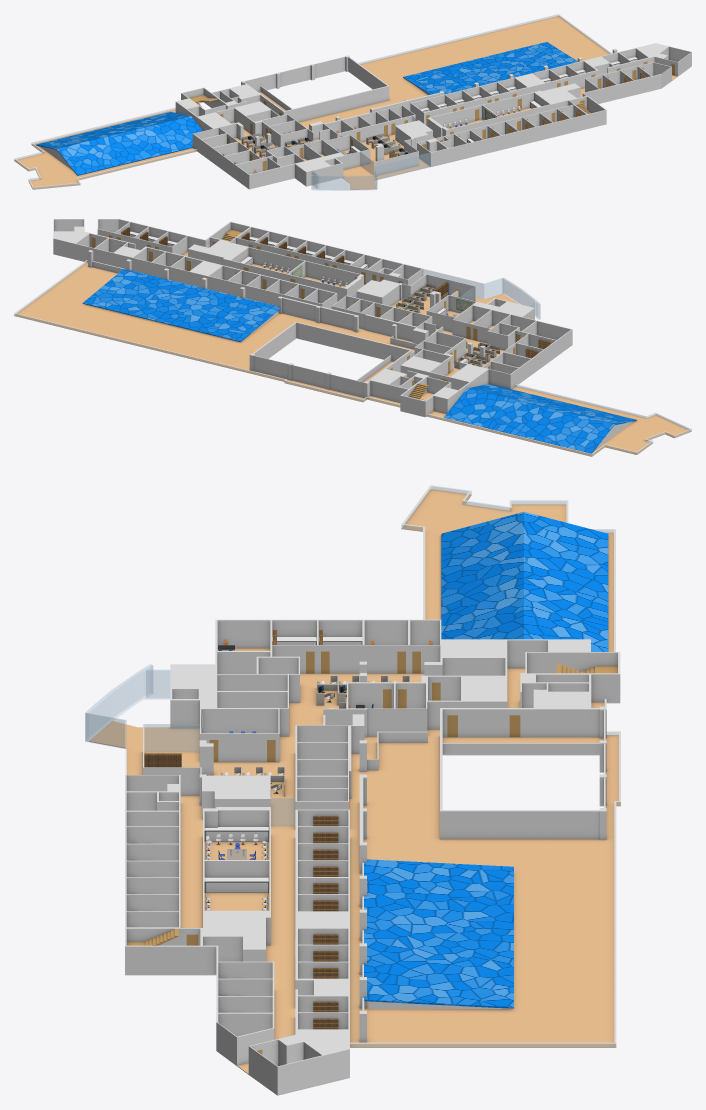
Rendered from COM1_L3.dae.
3 renders of one model, top to bottom at view 1: azimuth 30°, elevation 25°; view 2: azimuth 150°, elevation 25°; view 3: azimuth 270°, elevation 25°, orthographic. The views are drawn at different scales.
Visible parts, largest first — view 1: COM1_L3_Zone1, COM1_L3_Floor, COM1_L3_Roof, COM1_L3_Roof_1, COM1_L3_Zone2, COM1_L3_Zone3, COM1_L3_Glass, Furnitures.1, COM1_L3_Doors, COM1_L3_Misc; view 2: COM1_L3_Zone1, COM1_L3_Floor, COM1_L3_Roof, COM1_L3_Roof_1, COM1_L3_Zone2, COM1_L3_Zone3, COM1_L3_Glass, Furnitures.1, COM1_L3_Misc, COM1_L3_Doors; view 3: COM1_L3_Floor, COM1_L3_Zone1, COM1_L3_Roof, COM1_L3_Roof_1, COM1_L3_Zone3, COM1_L3_Zone2, Furnitures.1, COM1_L3_Glass, COM1_L3_Misc, COM1_L3_Doors.
Boxes of the visible parts, x1,y1,x2,y2 form: COM1_L3_Zone1: (175, 57, 415, 188); COM1_L3_Floor: (14, 16, 677, 189); COM1_L3_Roof: (36, 42, 577, 175); COM1_L3_Roof_1: (14, 14, 691, 189); COM1_L3_Zone2: (374, 46, 691, 175); COM1_L3_Zone3: (417, 62, 671, 166); COM1_L3_Glass: (14, 15, 610, 190); Furnitures.1: (223, 57, 647, 173); COM1_L3_Doors: (219, 61, 674, 171); COM1_L3_Misc: (241, 50, 617, 161); COM1_L3_Zone1: (253, 295, 572, 416); COM1_L3_Floor: (14, 234, 691, 456); COM1_L3_Roof: (82, 268, 636, 453); COM1_L3_Roof_1: (14, 219, 691, 456); COM1_L3_Zone2: (53, 219, 475, 308); COM1_L3_Zone3: (97, 219, 423, 285); COM1_L3_Glass: (14, 261, 691, 455); Furnitures.1: (121, 227, 559, 368); COM1_L3_Misc: (88, 251, 485, 398); COM1_L3_Doors: (91, 235, 524, 386); COM1_L3_Floor: (89, 489, 620, 1073); COM1_L3_Zone1: (170, 620, 620, 839); COM1_L3_Roof: (364, 511, 608, 1008); COM1_L3_Roof_1: (89, 485, 620, 1095); COM1_L3_Zone3: (125, 775, 274, 1065); COM1_L3_Zone2: (143, 767, 349, 1094); Furnitures.1: (144, 629, 432, 1029); COM1_L3_Glass: (85, 486, 620, 1047); COM1_L3_Misc: (199, 664, 606, 1042); COM1_L3_Doors: (186, 651, 544, 1054).
Bounding box in the file's own units: 154 × 3.47 × 57.64.
27 materials, 22 textured.
